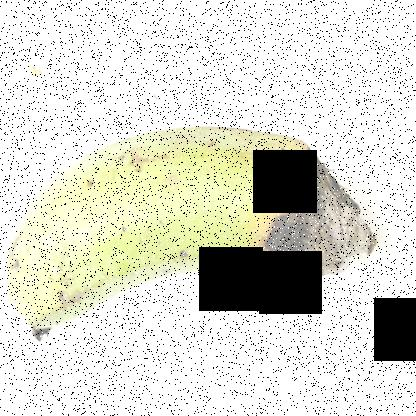rotten: (234, 120, 384, 301)
unripe: (5, 108, 260, 319)
